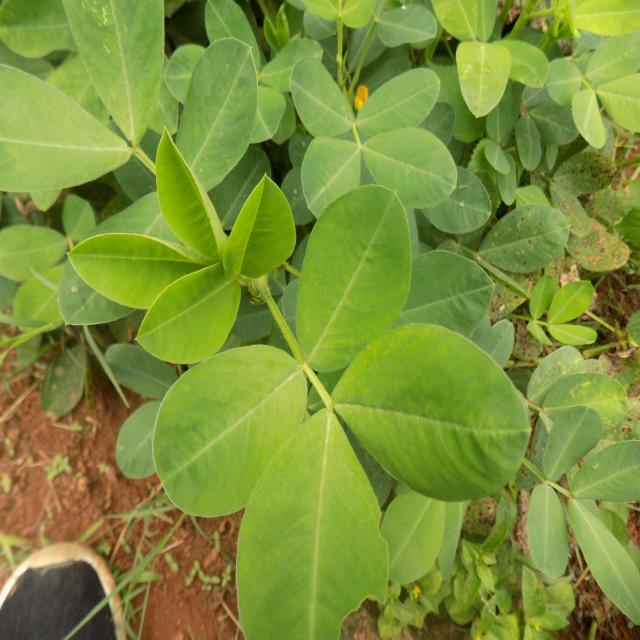Ground nut_healthy: (331, 320, 534, 502), (150, 345, 310, 519), (292, 187, 412, 368), (176, 41, 262, 202), (138, 258, 246, 363)
